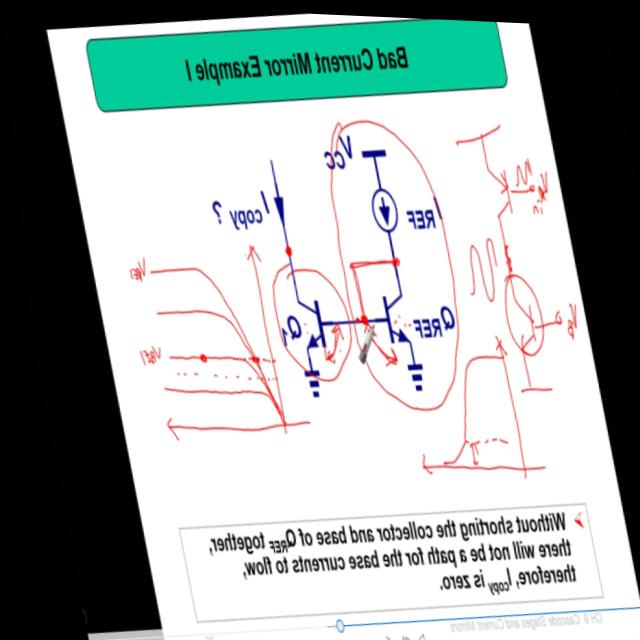panseo: (346, 86, 607, 496), (103, 217, 303, 468)
